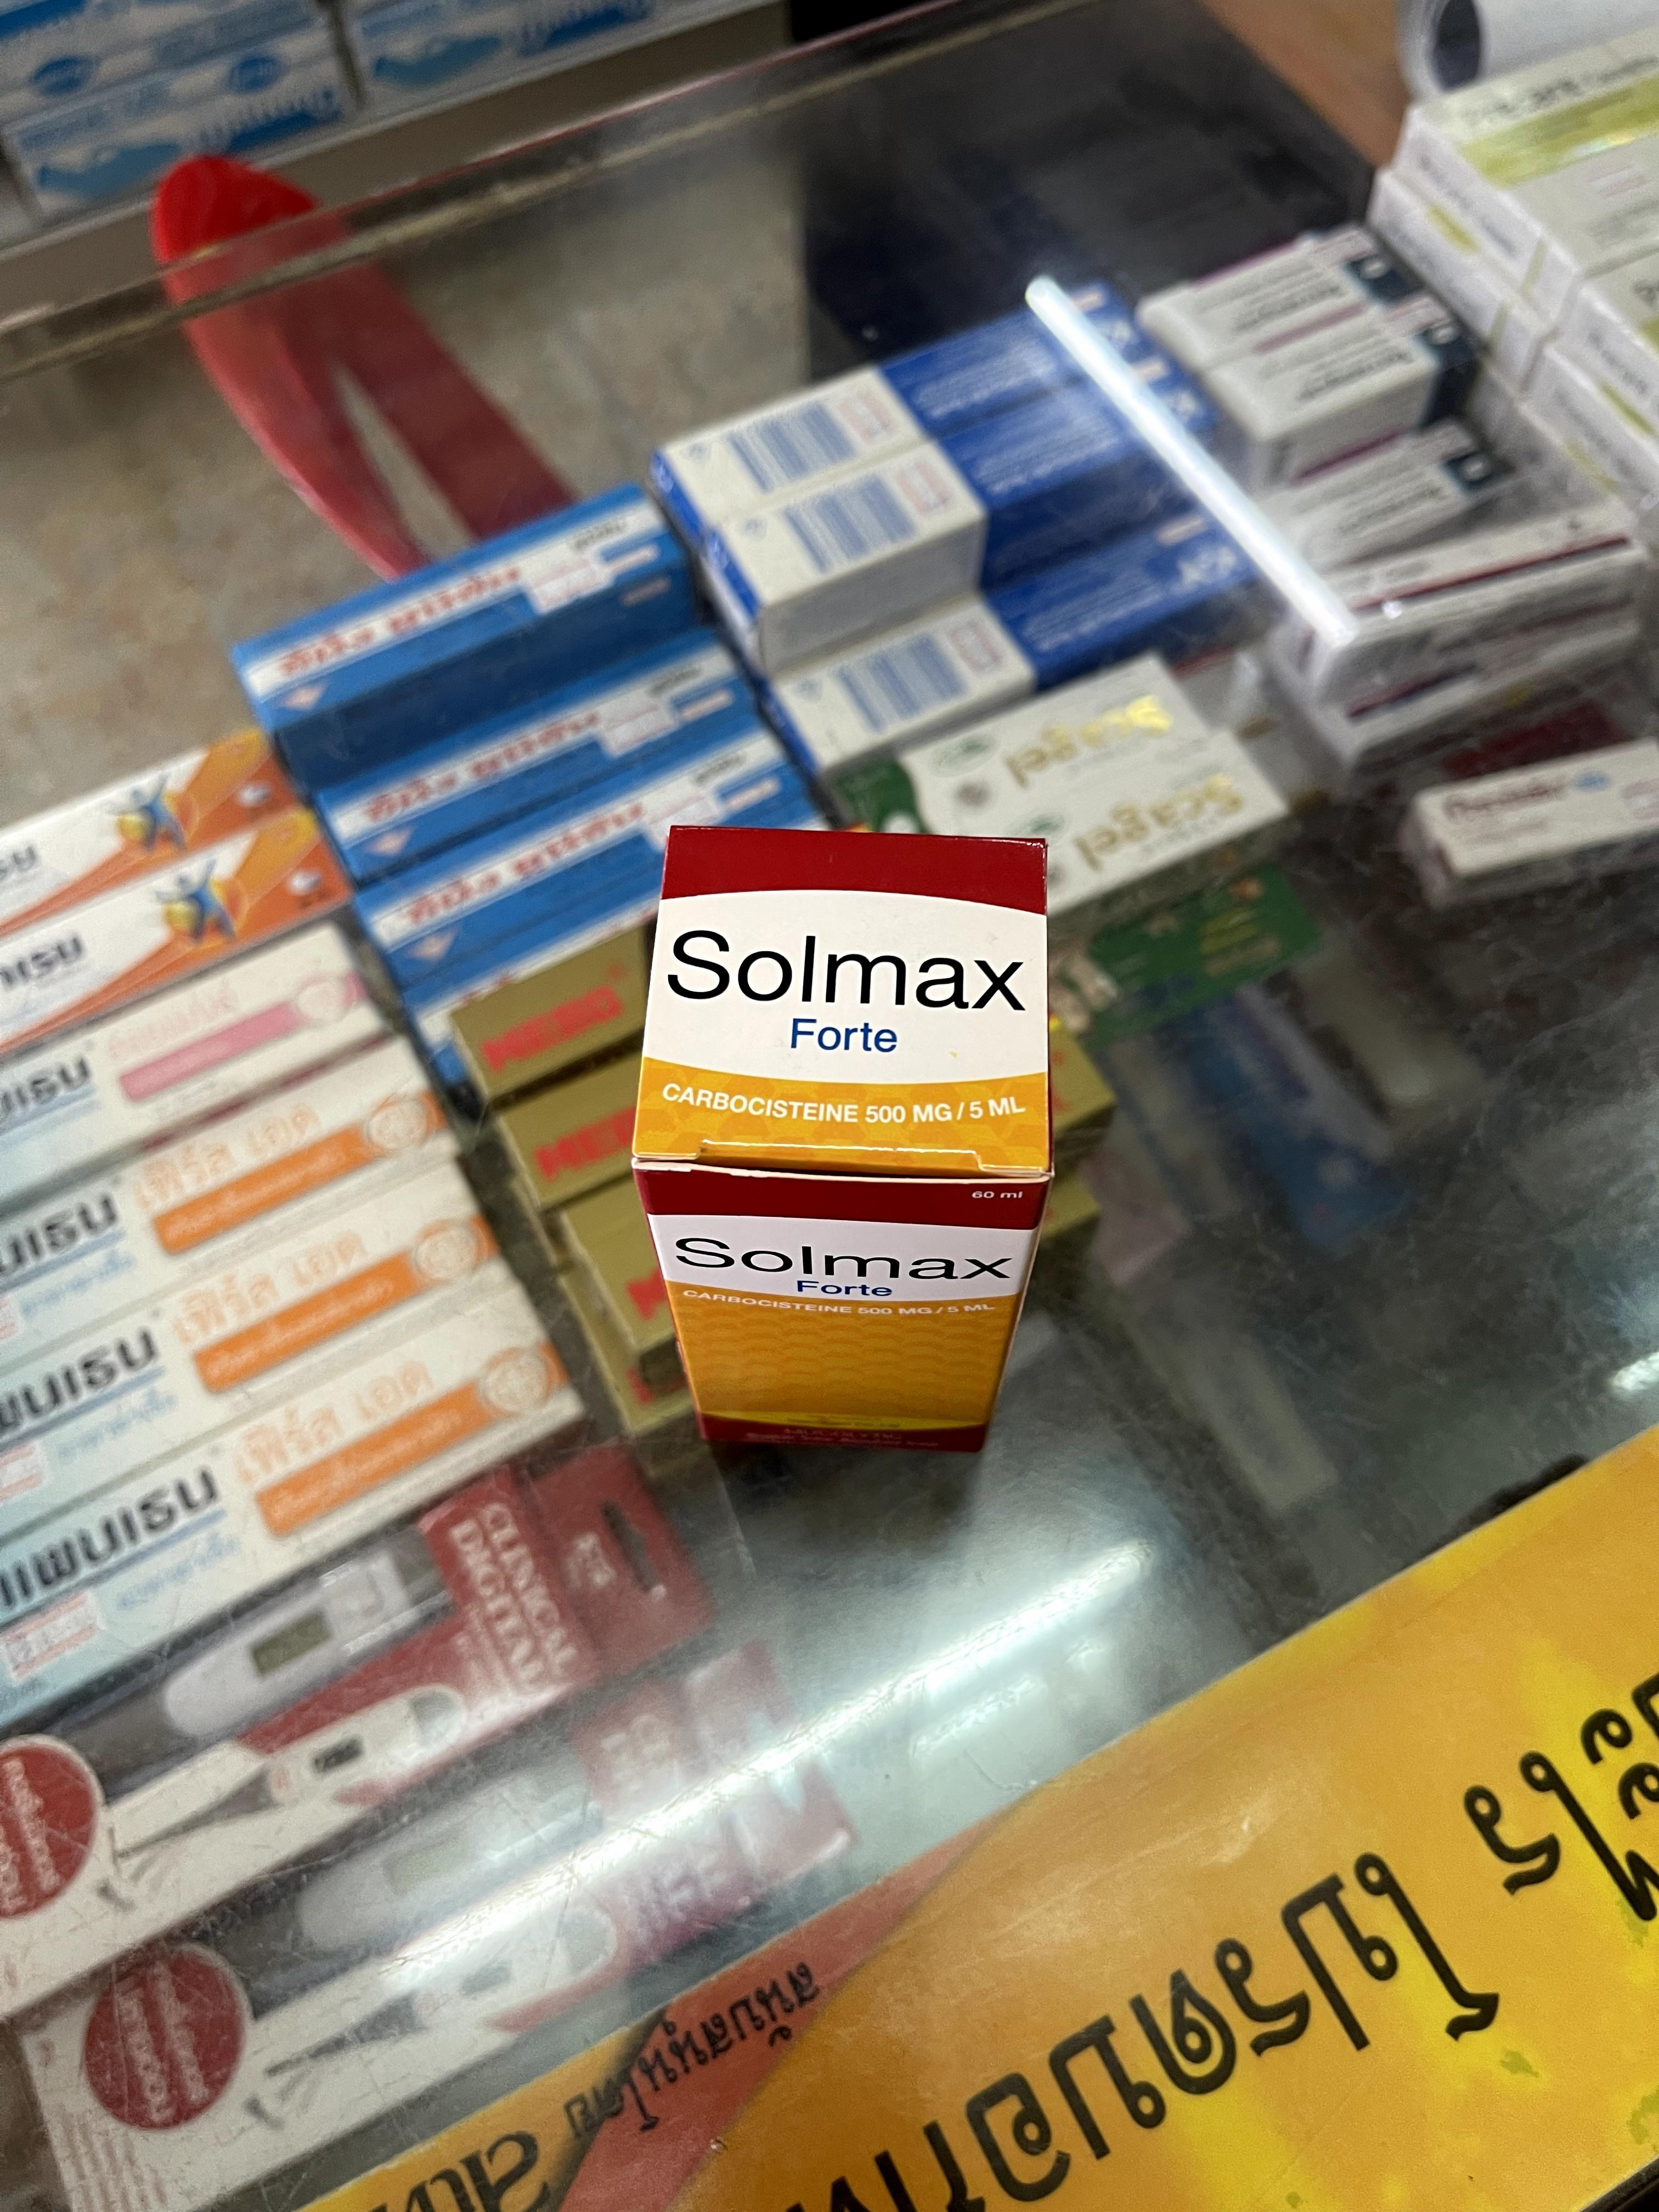Solmax: (650, 829, 1051, 1456)
